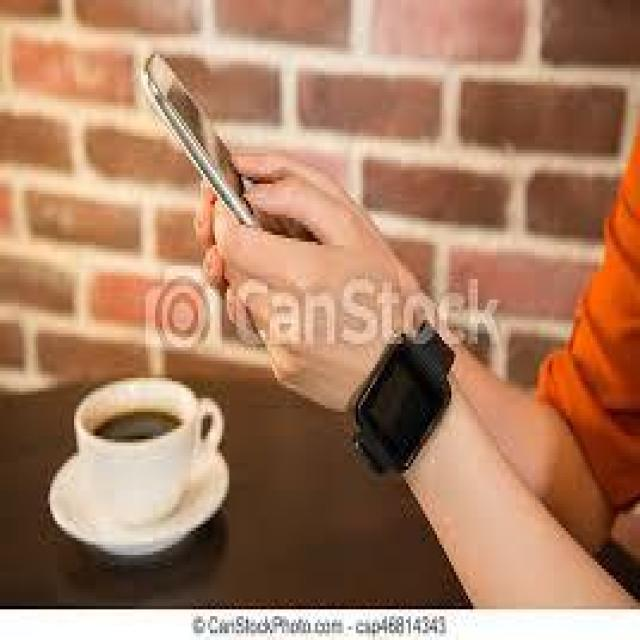smart phone: (130, 29, 332, 266)
watch: (343, 342, 512, 526)
